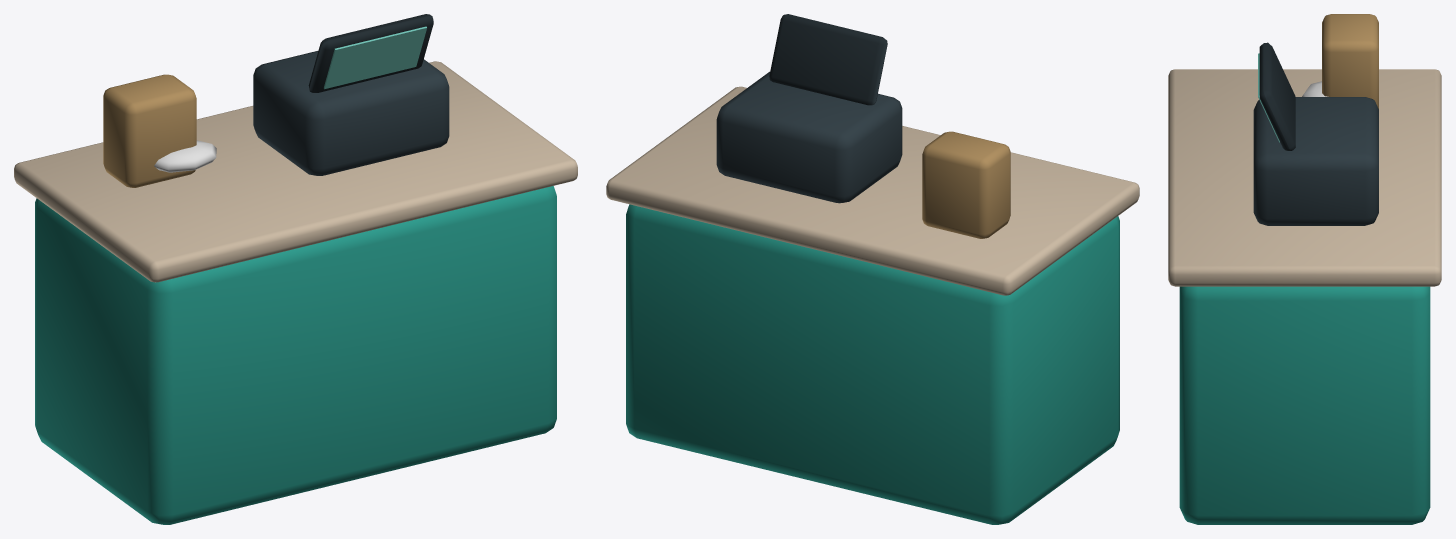
The model's file is f_register.glb.
The picture shows the model from 3 angles, left to right: view 1: azimuth 30°, elevation 25°; view 2: azimuth 150°, elevation 25°; view 3: azimuth 270°, elevation 25°; orthographic projection. The views are drawn at different scales.
Visible parts, largest first — view 1: f_register, Glass_f_register; view 2: f_register; view 3: f_register.
Part boxes in pixels (x1,y1,x2,y2): f_register: (14,14,577,524); Glass_f_register: (324,26,426,89); f_register: (606,14,1139,524); f_register: (1168,14,1441,524).
Size of the model in its own units: 2.1 by 1.93 by 1.2.
